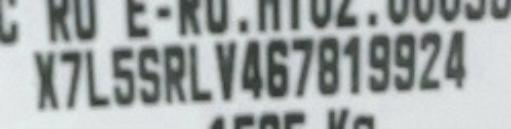letter: (311, 34, 343, 97), (185, 43, 215, 108), (29, 47, 59, 112), (212, 38, 242, 101), (134, 45, 164, 108), (82, 51, 112, 112), (363, 34, 393, 93), (262, 38, 290, 99), (236, 36, 263, 99), (109, 47, 135, 112), (160, 43, 186, 106), (289, 36, 315, 97), (443, 26, 467, 91), (340, 34, 364, 99), (418, 30, 442, 93), (390, 32, 416, 89), (59, 51, 81, 112)
